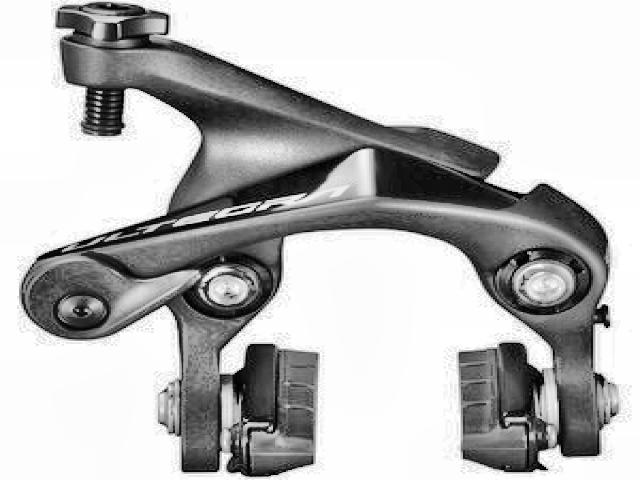rim_brake: (18, 0, 620, 479)
